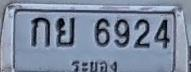2: (134, 18, 150, 48)
4: (154, 18, 170, 48)
6: (94, 17, 110, 46)
9: (115, 18, 130, 47)
A01: (31, 16, 50, 47)
A34: (55, 17, 75, 46)
RYG: (69, 56, 119, 72)
